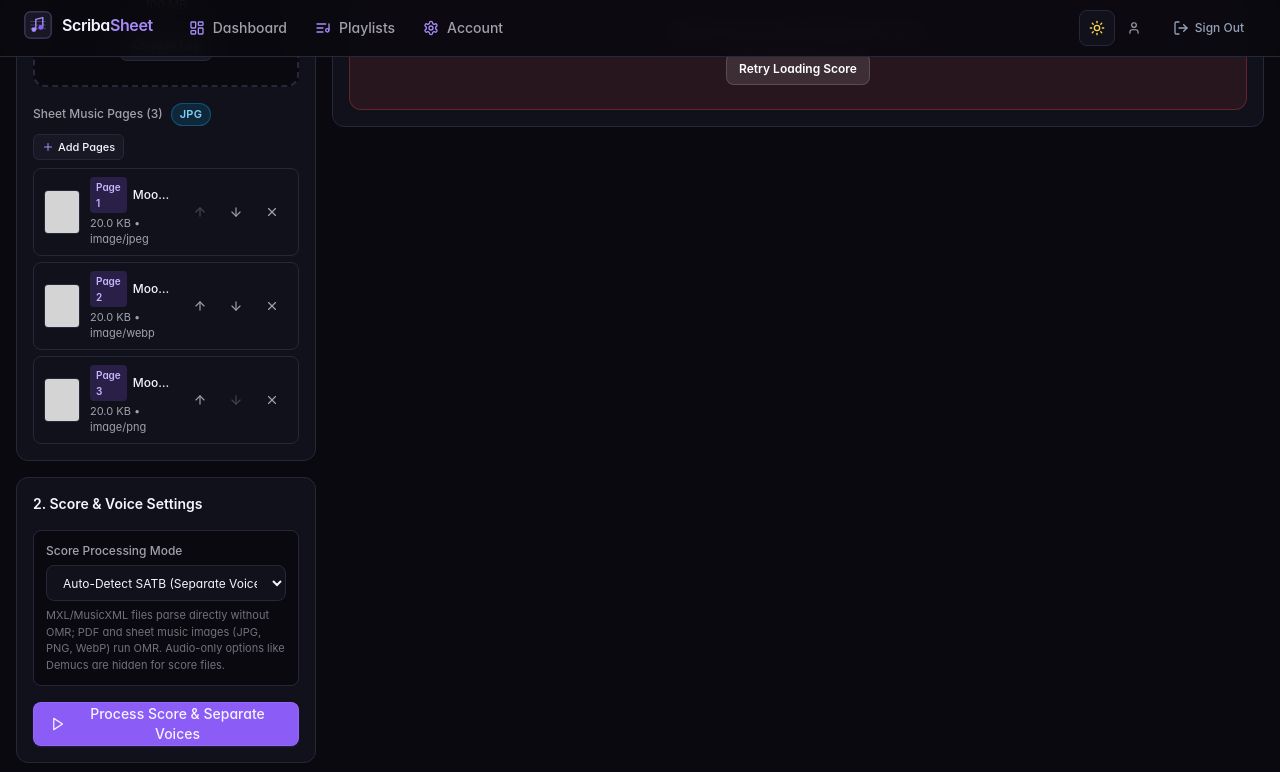
it: Sheet Music Image Upload (JPG, PNG, WebP, Multi-Page, Reorder & Title) › supports page reordering, removal, first-filename default project title, and ordered job start in Studio
Earlier steps of the test are not shown.
Later steps or results of the test are not shown.
(page scrolled)
Expected: the text "Moonlight_Sonata_p3.png" is shown, [133, 375, 176, 391]
Click the button with test id "remove-page-2" at (272, 400), box [256, 384, 288, 416]
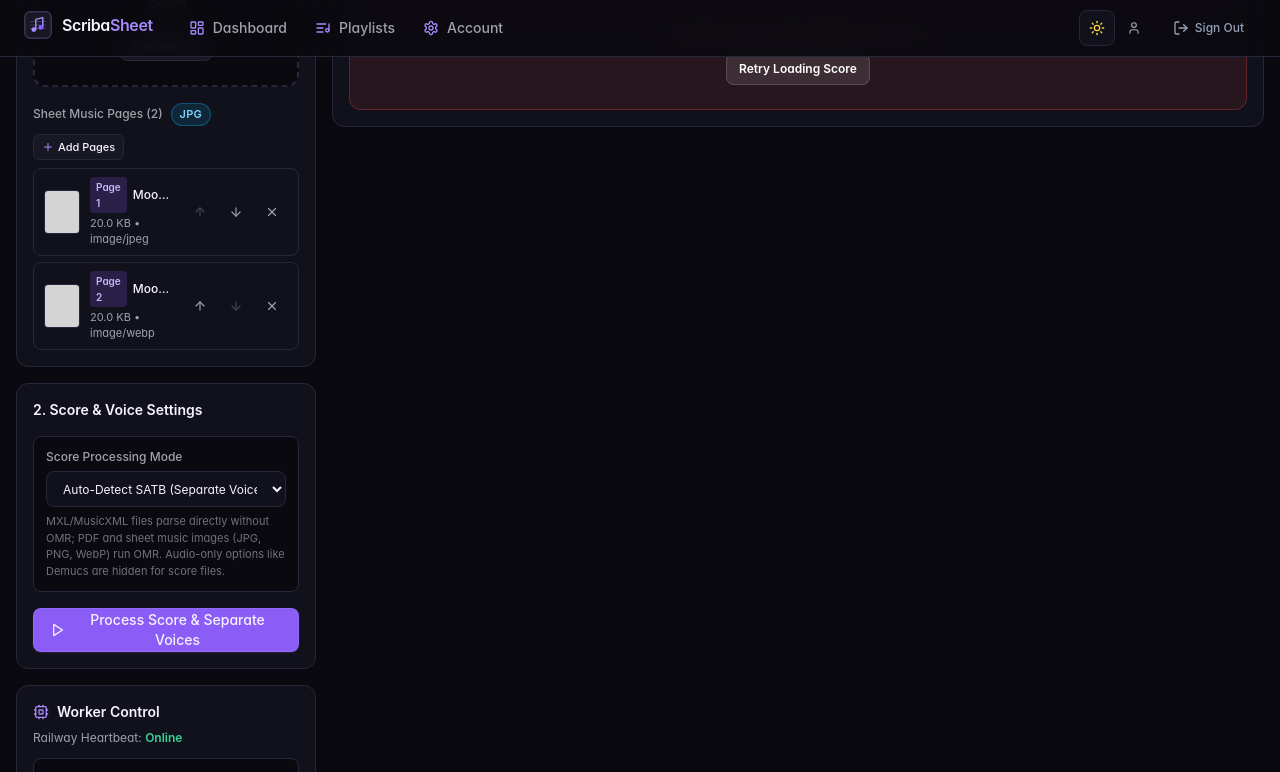
Expected: the text "Moonlight_Sonata_p3.png" is gone
